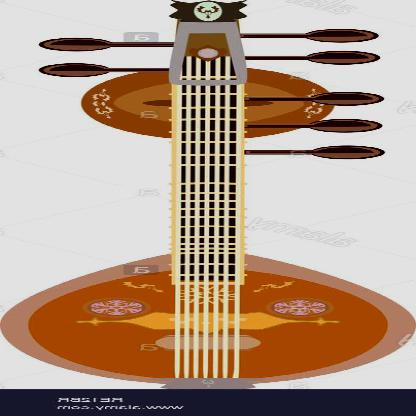Veena: (115, 1, 309, 385)
